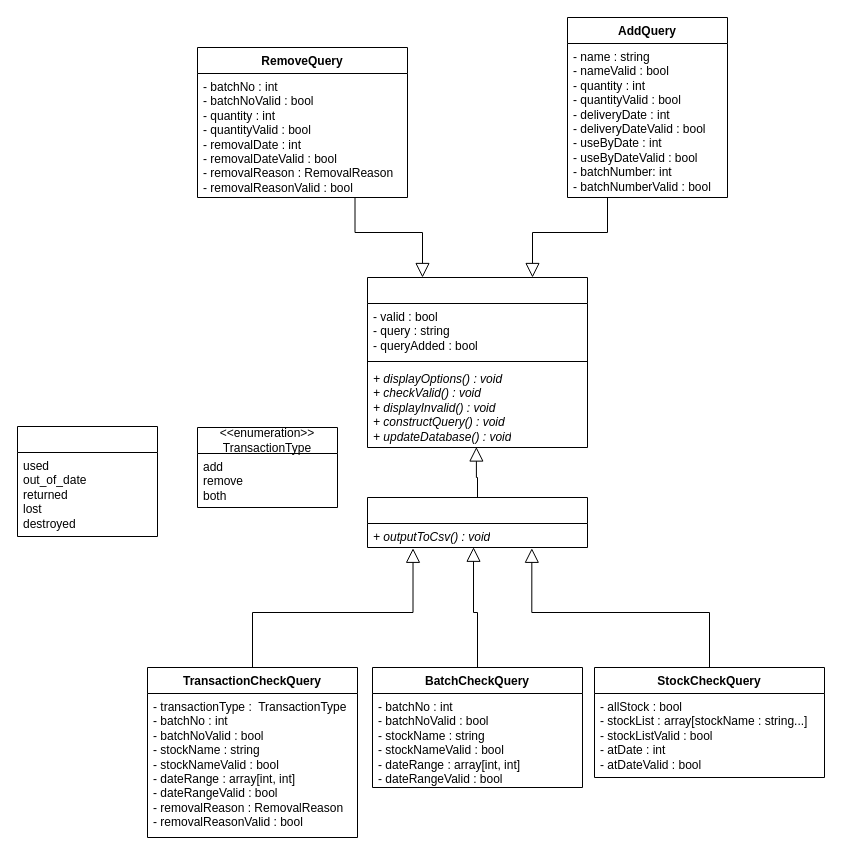
Image size: 842x858. Some labels were removed from this diagram. The box of each missing label's shape, as (x1, y1, x2, y2) in pixels:
<<enumeration>> RemovalReason: (16, 426, 158, 536)
BaseQuery: (366, 276, 588, 448)
CheckQuery: (366, 496, 588, 548)
